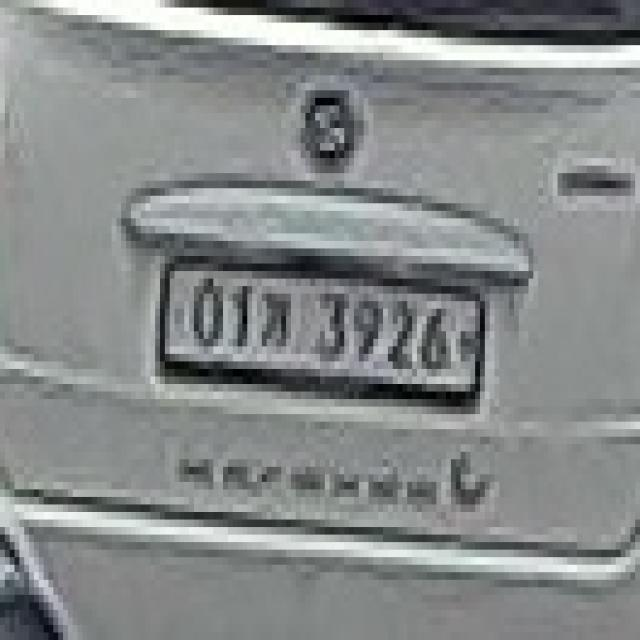0: (184, 276, 226, 350)
1: (230, 275, 254, 360)
2: (388, 293, 422, 376)
3: (314, 286, 348, 368)
6: (426, 302, 454, 381)
9: (350, 288, 384, 368)
ga: (260, 283, 298, 363)
license_plate: (148, 238, 490, 416)
